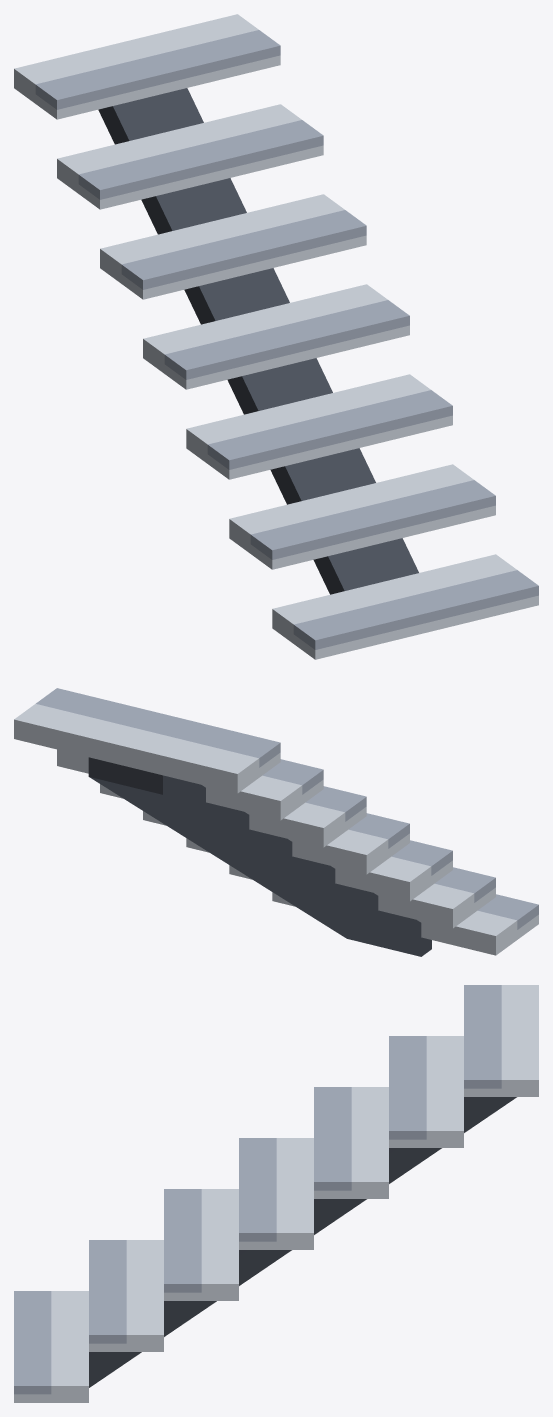
File: stairs.dae
The picture shows the model from 3 angles, top to bottom: view 1: azimuth 30°, elevation 25°; view 2: azimuth 150°, elevation 25°; view 3: azimuth 270°, elevation 25°; orthographic projection. The views are drawn at different scales.
Visible parts, largest first — view 1: stairs; view 2: stairs; view 3: stairs.
Part boxes in pixels (box(x1,y1,x2,y2)): stairs: box(14, 14, 538, 659); stairs: box(14, 688, 538, 956); stairs: box(14, 985, 538, 1402).
Bounding box in the file's own units: 0.3 × 0.5 × 0.7.
